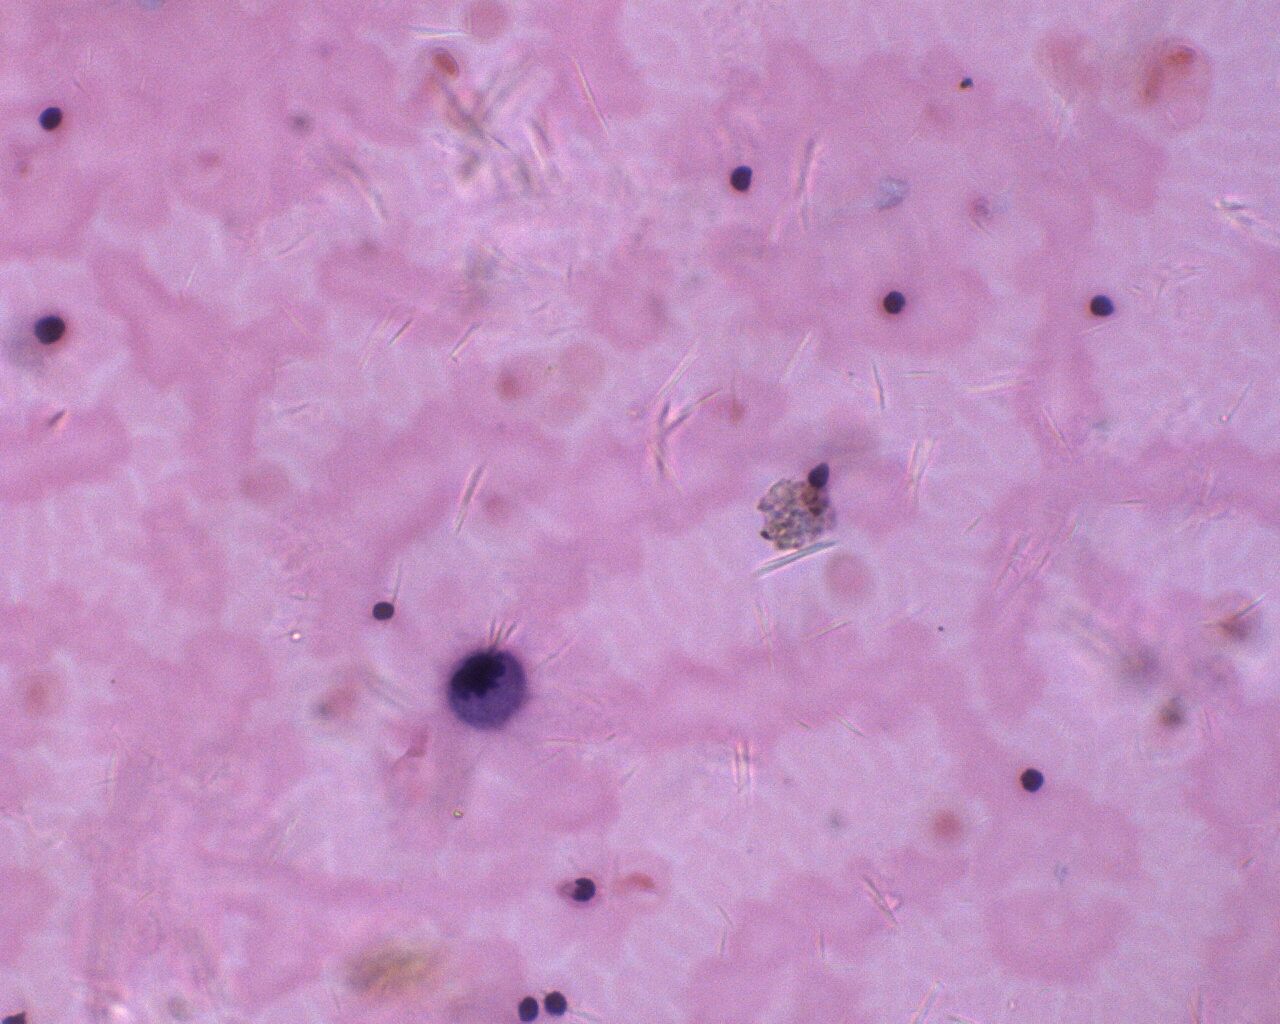ab: (443, 648, 531, 730)
lymph: (31, 310, 73, 350), (875, 283, 911, 319), (1016, 760, 1048, 799), (1083, 288, 1117, 323)
